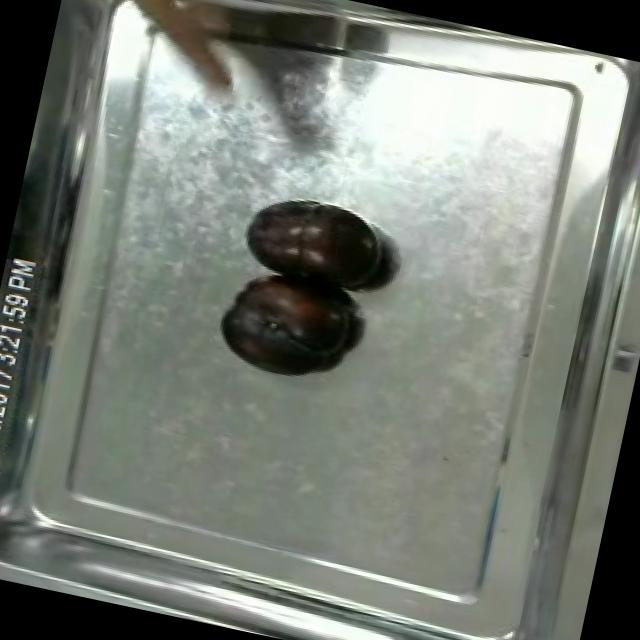Fruit: (207, 254, 366, 392), (230, 184, 398, 310)
